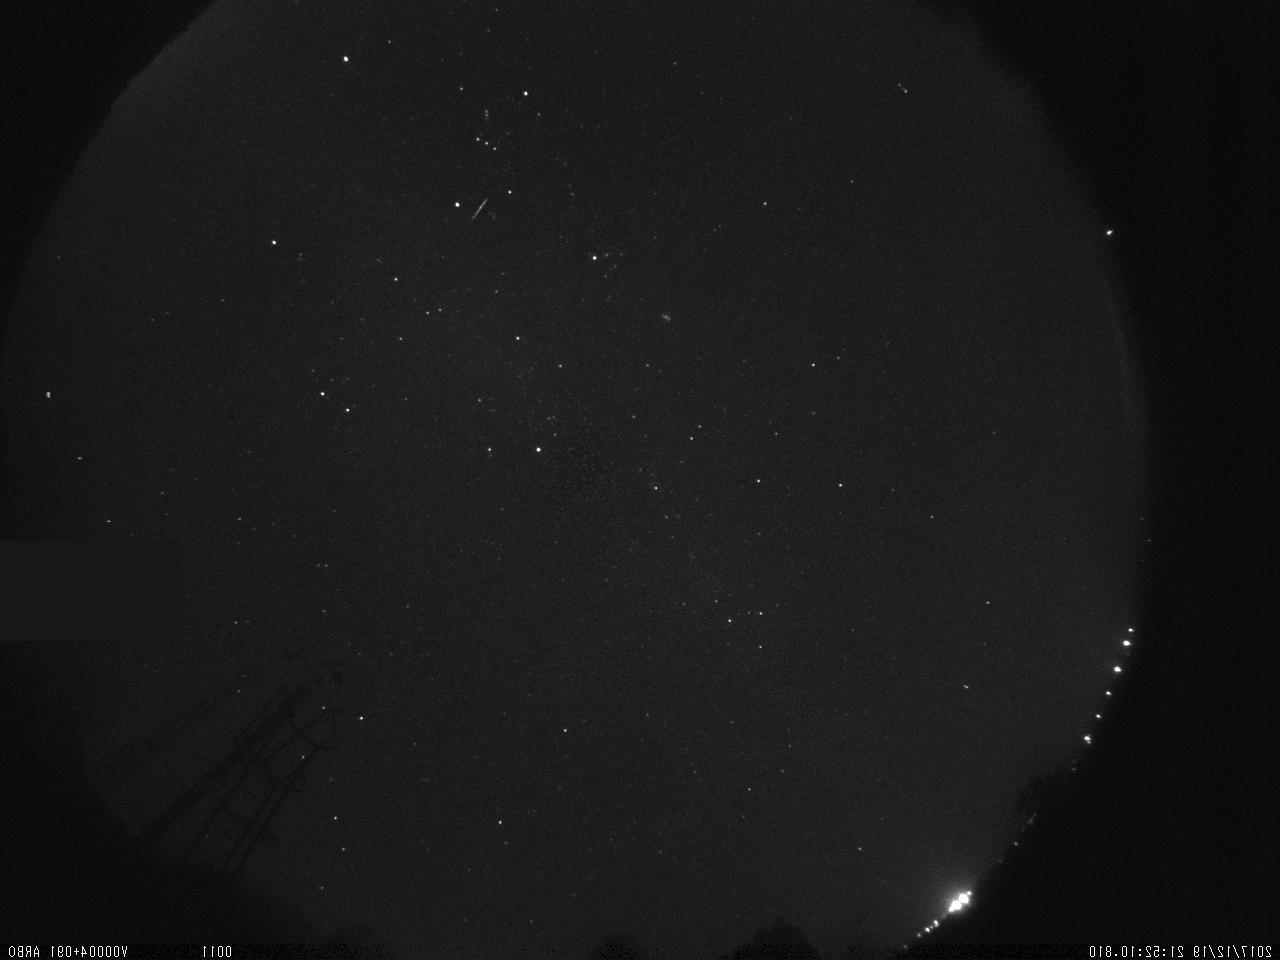meteor: (422, 174, 519, 248)
